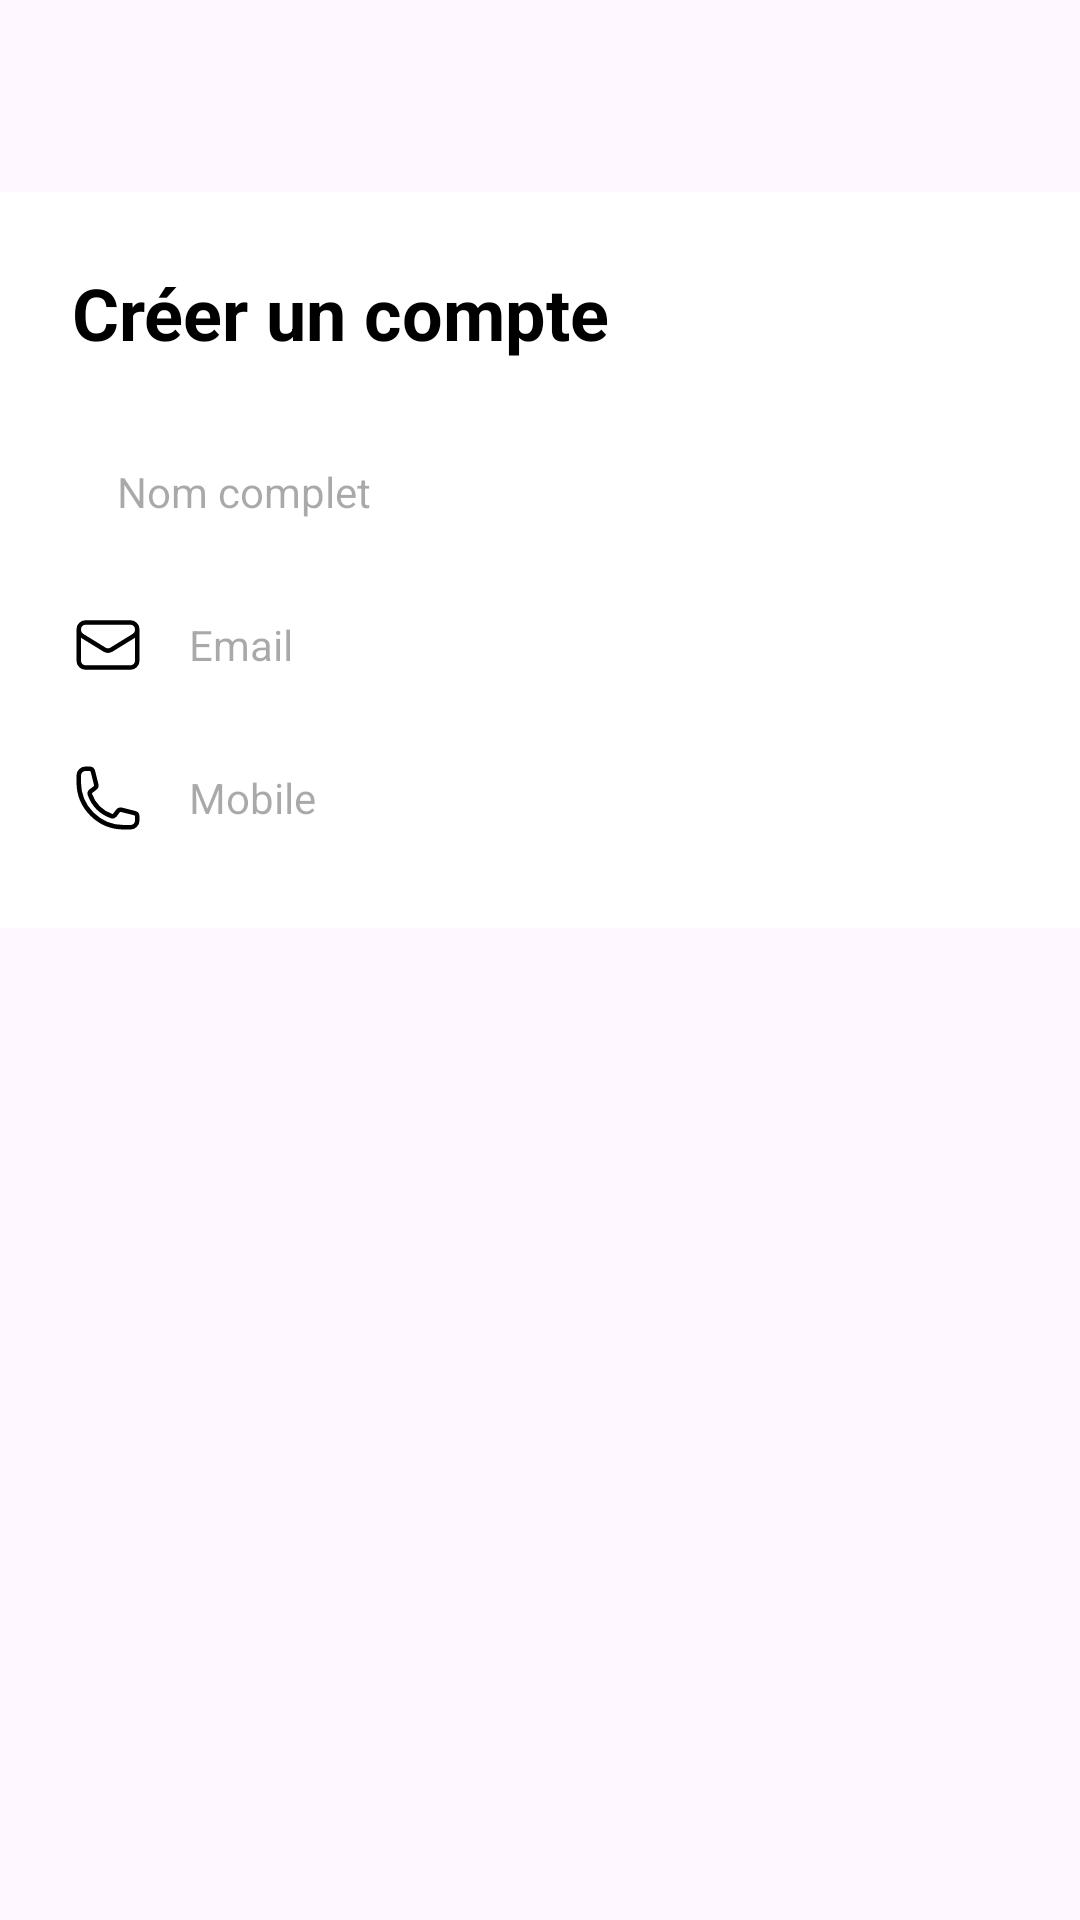

Where icons sit on this 1080*1920 app screen, as (x1, y1, x2, y2):
phone: (76, 766, 140, 830)
